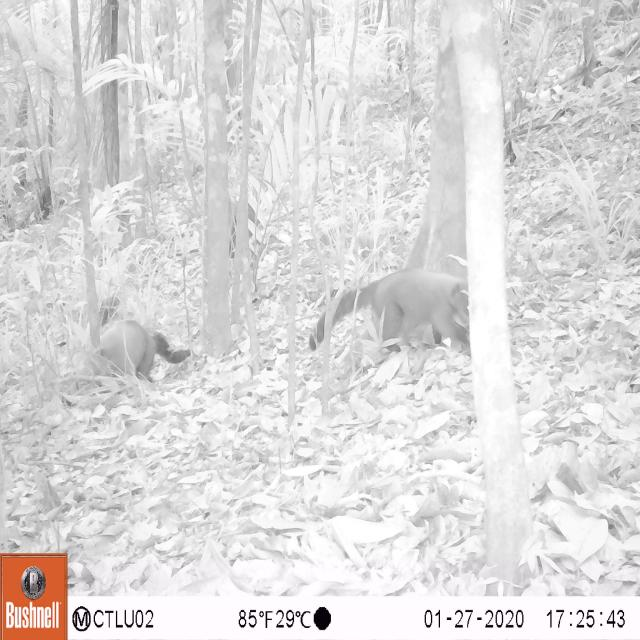South American Coati: (299, 260, 482, 364), (73, 307, 197, 391)
